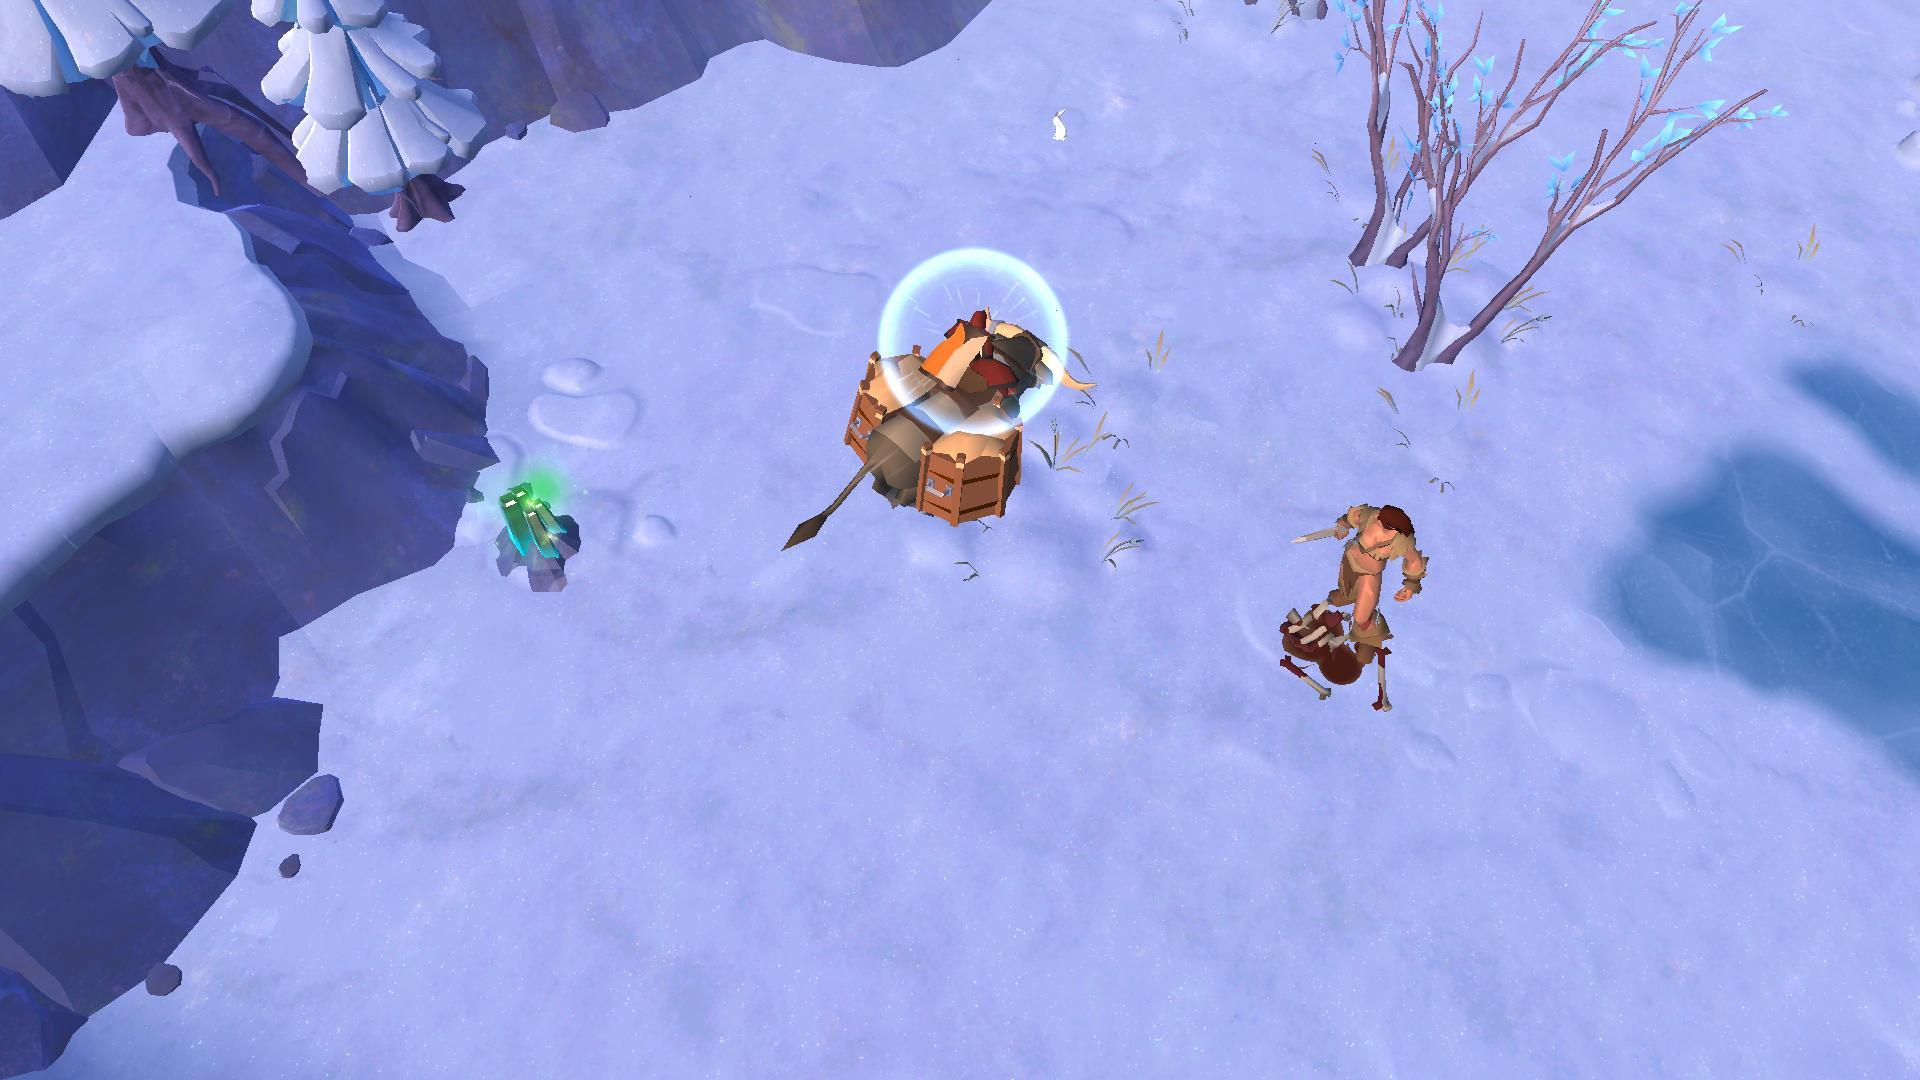enemy_factionKeeper: (1300, 502, 1425, 666)
ore_t4: (488, 477, 574, 572)
